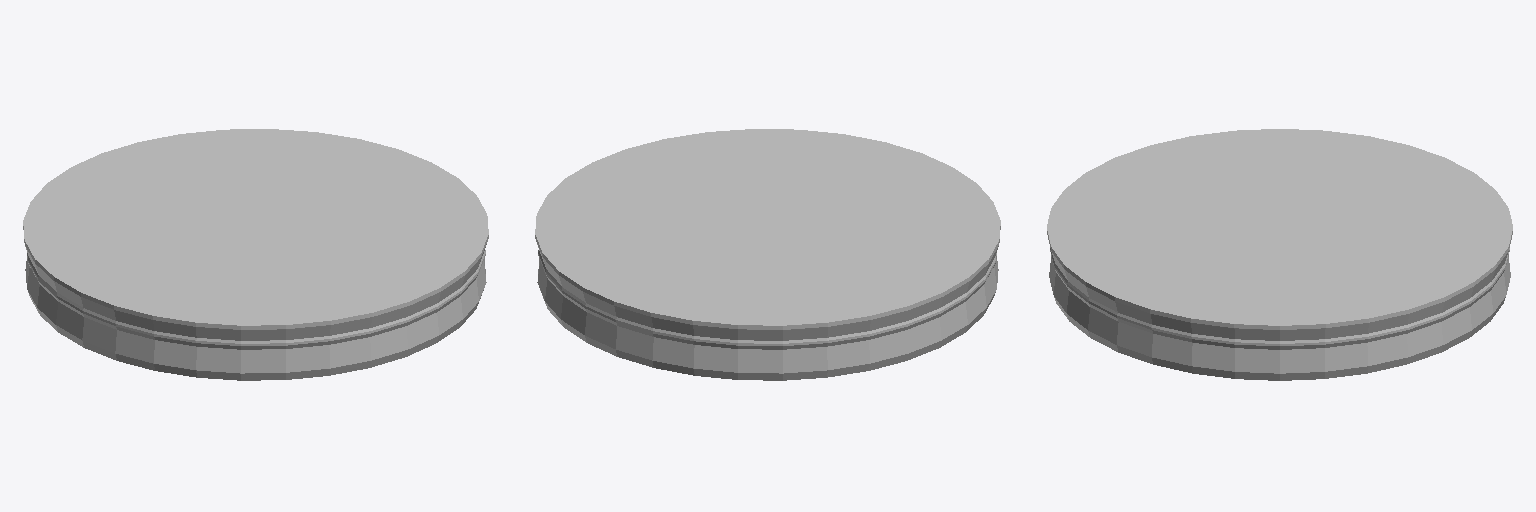
Rendered from DomeBase.obj.
3 renders of one model, left to right at view 1: azimuth 30°, elevation 25°; view 2: azimuth 150°, elevation 25°; view 3: azimuth 270°, elevation 25°, orthographic.
Parts seen in each view (by area): view 1: Cylinder; view 2: Cylinder; view 3: Cylinder.
Boxes of the visible parts, x1=… form: Cylinder: x1=23, y1=129, x2=488, y2=380; Cylinder: x1=535, y1=129, x2=1000, y2=380; Cylinder: x1=1047, y1=129, x2=1512, y2=380.
Bounding box in the file's own units: 205 × 27.73 × 205.